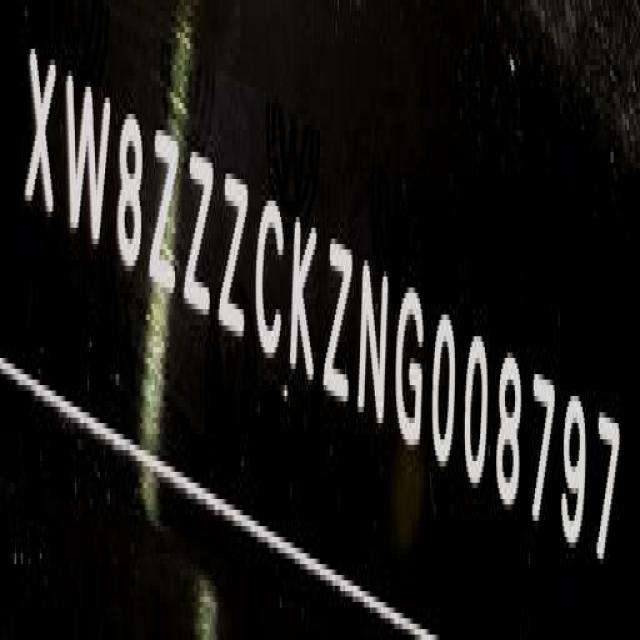0: (463, 324, 488, 498), (430, 311, 456, 472)
7: (593, 410, 623, 580), (530, 370, 555, 530)
8: (496, 348, 524, 518), (116, 96, 139, 278)
9: (560, 392, 588, 564)
C: (255, 197, 283, 372)
G: (396, 285, 424, 450)
K: (289, 211, 317, 388)
N: (358, 257, 392, 436)
W: (63, 64, 110, 257)
X: (23, 38, 58, 223)
Z: (322, 231, 355, 418), (184, 134, 215, 328), (150, 124, 180, 304), (218, 168, 246, 350)
